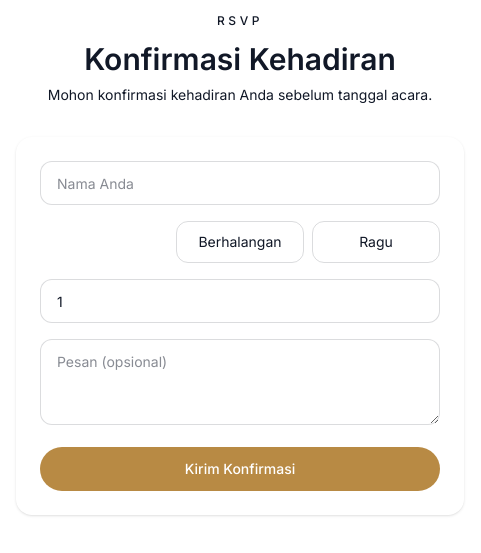
Test case: RsvpBlock › shows a validation error for an empty guest name
Click the button "Kirim Konfirmasi": (240, 469) [40, 447, 440, 491]
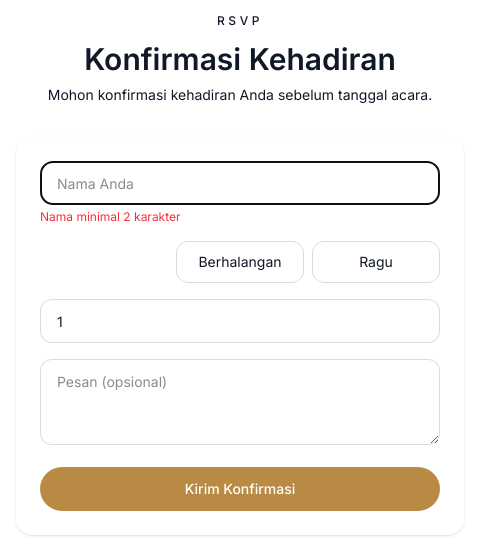
Now the text "Nama minimal 2 karakter" is shown, box [40, 209, 180, 224]
